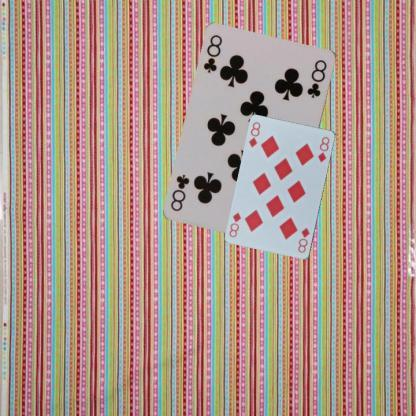8c: (201, 32, 224, 74)
8d: (295, 225, 311, 254), (246, 120, 262, 148)
